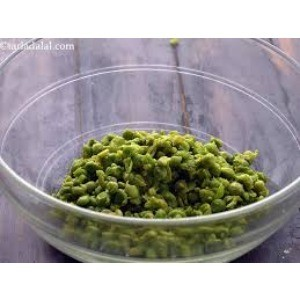green pea_brain food: (76, 134, 209, 211)
